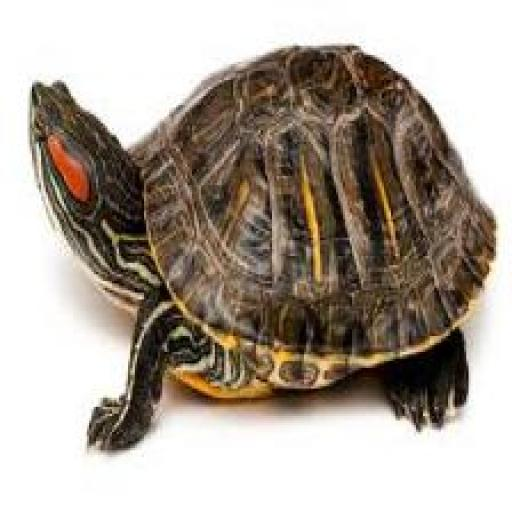turtle: (21, 41, 496, 451)
